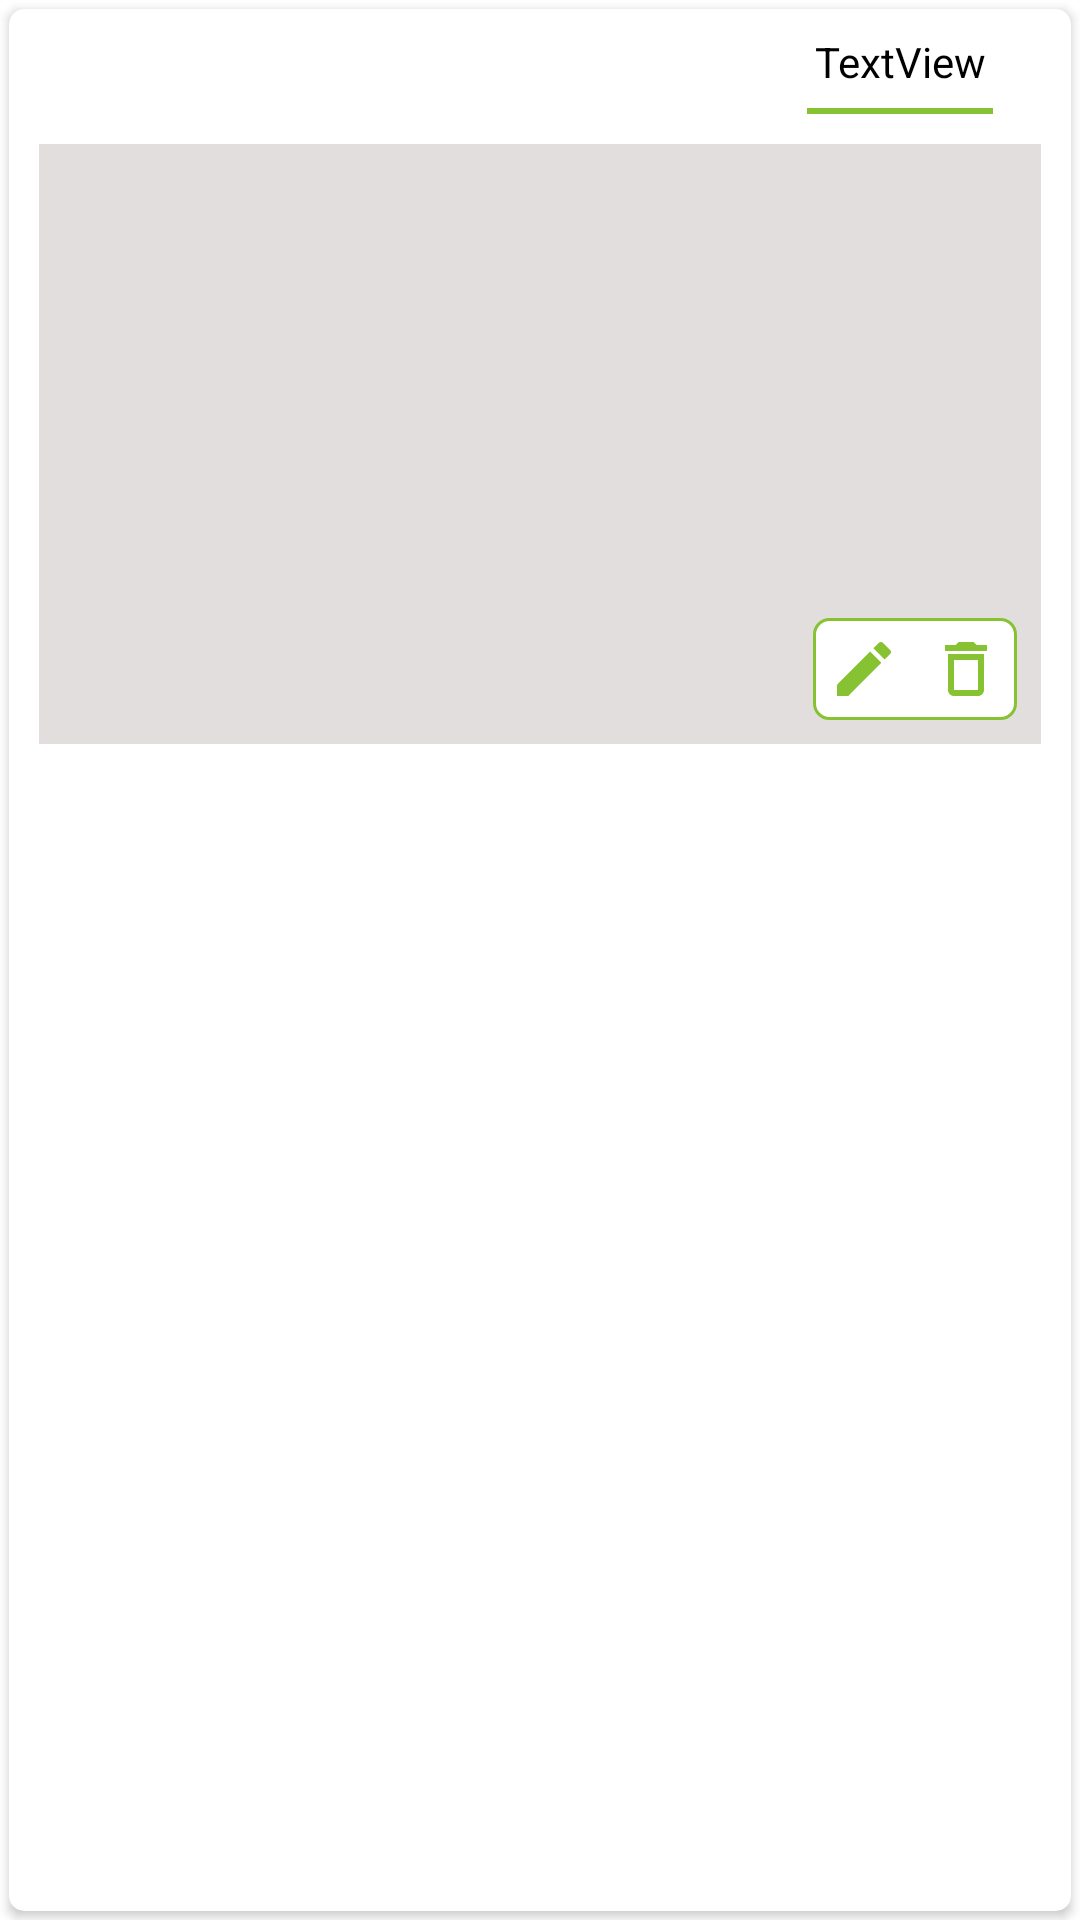

Screen size 1080px x 1920px. Icon name, then its center in pixels as (x=x, y=y):
delete: (x=966, y=669)
edit: (x=864, y=669)
